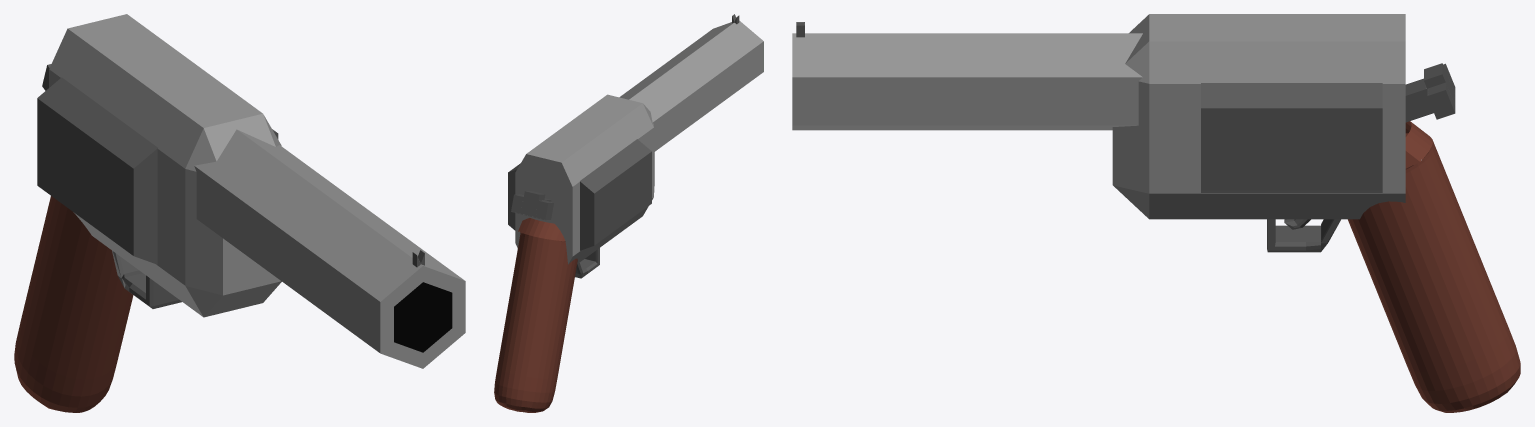
The model's file is RevDone2_model.glb.
3 renders of one model, left to right at view 1: azimuth 30°, elevation 25°; view 2: azimuth 150°, elevation 25°; view 3: azimuth 270°, elevation 25°, orthographic. The views are drawn at different scales.
Parts seen in each view (by area): view 1: Frame, Barrel, Handle, REVCylinder, Inner Barrel, Trigger/Gaurd; view 2: Handle, Frame, Barrel, REVCylinder, Hamer, Trigger/Gaurd; view 3: Frame, Barrel, Handle, REVCylinder, Hamer, Trigger/Gaurd.
Part boxes in pixels (bbox=[...]): Frame: bbox=[49, 14, 281, 317]; Barrel: bbox=[194, 129, 465, 368]; Handle: bbox=[14, 196, 133, 412]; REVCylinder: bbox=[37, 77, 278, 264]; Inner Barrel: bbox=[394, 282, 452, 352]; Trigger/Gaurd: bbox=[112, 250, 181, 308]; Handle: bbox=[494, 218, 577, 412]; Frame: bbox=[515, 94, 654, 264]; Barrel: bbox=[619, 20, 763, 151]; REVCylinder: bbox=[508, 139, 651, 250]; Hamer: bbox=[511, 191, 553, 220]; Trigger/Gaurd: bbox=[575, 248, 599, 278]; Frame: bbox=[1112, 14, 1405, 219]; Barrel: bbox=[792, 33, 1142, 130]; Handle: bbox=[1348, 121, 1520, 412]; REVCylinder: bbox=[1201, 83, 1382, 192]; Hamer: bbox=[1405, 63, 1455, 122]; Trigger/Gaurd: bbox=[1267, 219, 1340, 252].
Bounding box in the file's own units: 0.8445 × 2.27 × 3.92.
Materials: 8 (8 with a texture image).
